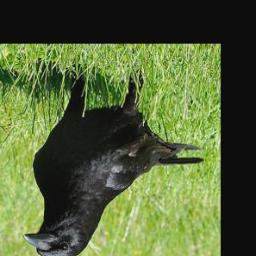Crow: (21, 69, 205, 256)
